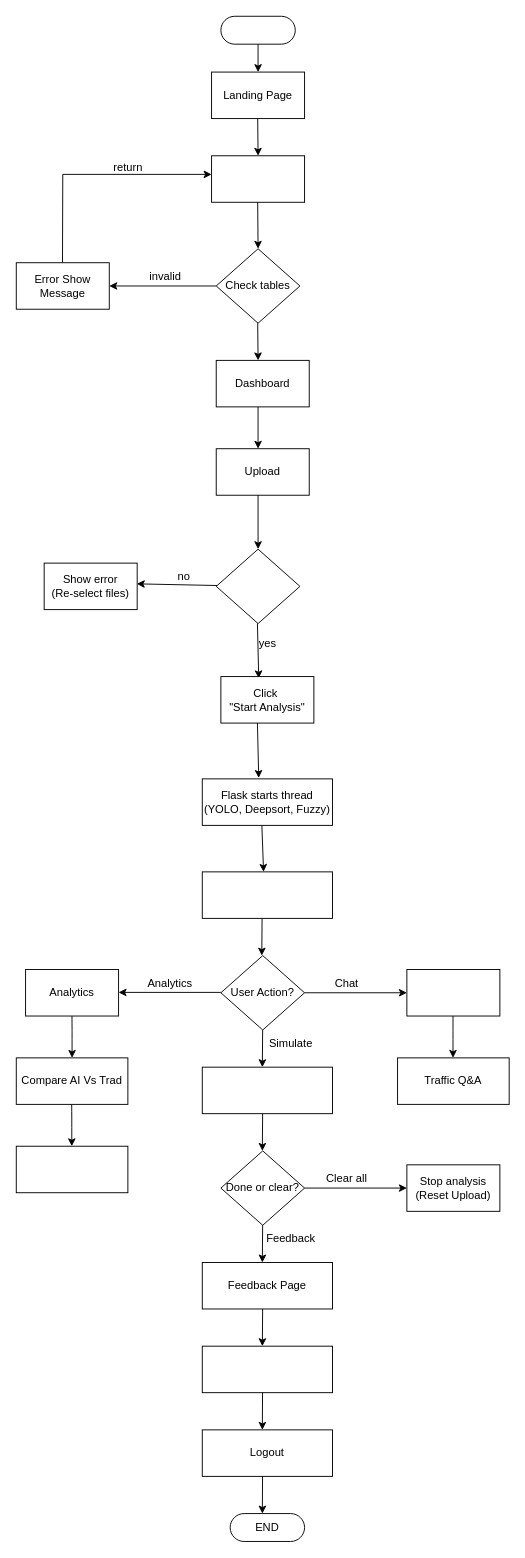
The diagram is 525 pixels wide and 1558 high, and some of its shapes have lost their labels. Here are the shapes that lost their labels. From the top down, the centre of each, then its label:
At point (257, 29): "START".
At point (258, 178): "User Login".
At point (257, 586): "File Valid?".
At point (266, 894): "Live stream view (4 lane MJPEG + stats)".
At point (453, 992): "Chatbox".
At point (266, 1090): "AI Simulation (Canvas intersection)".
At point (71, 1169): "Export Comparison (PDF)".
At point (266, 1369): "Submit (save to database)".
